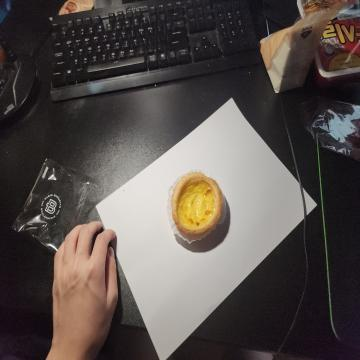EggTart: (170, 170, 224, 238)
